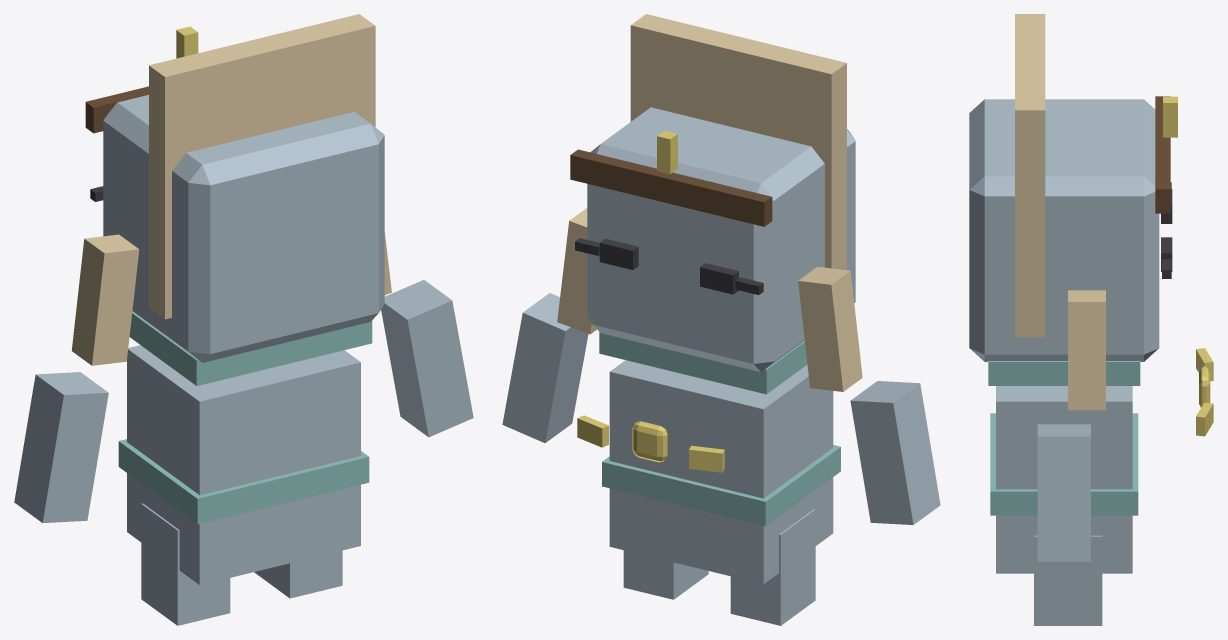
Rendered from CH_Nebu.fbx.
3 renders of one model, left to right at view 1: azimuth 30°, elevation 25°; view 2: azimuth 150°, elevation 25°; view 3: azimuth 270°, elevation 25°, orthographic. The views are drawn at different scales.
Parts seen in each view (by area): view 1: CH_Nebu_Head, CH_Nebu_Body, CH_Nebu_NemesBack, CH_Nebu_ArmL, CH_Nebu_ArmR, CH_Nebu_Belt, CH_Nebu_NemesLapL, CH_Nebu_Collar, CH_Nebu_LegL, CH_Nebu_LegR, CH_Nebu_CrownBand, CH_Nebu_Uraeus; view 2: CH_Nebu_Head, CH_Nebu_Body, CH_Nebu_NemesBack, CH_Nebu_ArmL, CH_Nebu_ArmR, CH_Nebu_Belt, CH_Nebu_CrownBand, CH_Nebu_NemesLapL, CH_Nebu_LegL, CH_Nebu_Collar, CH_Nebu_NemesLapR, CH_Nebu_LegR (+6 smaller); view 3: CH_Nebu_Head, CH_Nebu_Body, CH_Nebu_NemesBack, CH_Nebu_ArmR, CH_Nebu_LegR, CH_Nebu_NemesLapR, CH_Nebu_Belt, CH_Nebu_Collar, CH_Nebu_CrownBand, CH_Nebu_Uraeus, CH_Nebu_WingR, CH_Nebu_Scarab (+1 smaller).
Boxes of the visible parts, x1,y1,x2,y2 form: CH_Nebu_Head: (103,94,384,362); CH_Nebu_Body: (127,345,360,584); CH_Nebu_NemesBack: (149,14,375,319); CH_Nebu_ArmL: (14,372,108,522); CH_Nebu_ArmR: (381,280,473,437); CH_Nebu_Belt: (118,439,369,524); CH_Nebu_NemesLapL: (71,234,139,365); CH_Nebu_Collar: (129,312,372,385); CH_Nebu_LegL: (141,503,230,625); CH_Nebu_LegR: (254,550,342,598); CH_Nebu_CrownBand: (85,86,148,133); CH_Nebu_Uraeus: (176,26,198,58); CH_Nebu_Head: (587,107,855,371); CH_Nebu_Body: (609,360,833,584); CH_Nebu_NemesBack: (630,14,846,270); CH_Nebu_ArmL: (850,381,940,524); CH_Nebu_ArmR: (502,293,588,442); CH_Nebu_Belt: (602,445,840,526); CH_Nebu_CrownBand: (570,149,772,226); CH_Nebu_NemesLapL: (798,266,862,391); CH_Nebu_LegL: (730,509,815,625); CH_Nebu_Collar: (599,332,807,394); CH_Nebu_NemesLapR: (557,208,596,334); CH_Nebu_LegR: (623,550,708,599); CH_Nebu_Head: (969,99,1159,361); CH_Nebu_Body: (996,386,1132,573); CH_Nebu_NemesBack: (1015,14,1045,337); CH_Nebu_ArmR: (1037,424,1090,561); CH_Nebu_LegR: (1034,535,1102,625); CH_Nebu_NemesLapR: (1068,290,1105,410); CH_Nebu_Belt: (990,413,1138,515); CH_Nebu_Collar: (988,361,1140,385); CH_Nebu_CrownBand: (1155,96,1170,213); CH_Nebu_Uraeus: (1163,96,1177,137); CH_Nebu_WingR: (1196,402,1213,436); CH_Nebu_Scarab: (1199,366,1210,407).
Bounding box in the file's own units: 123 × 153 × 64.32.
